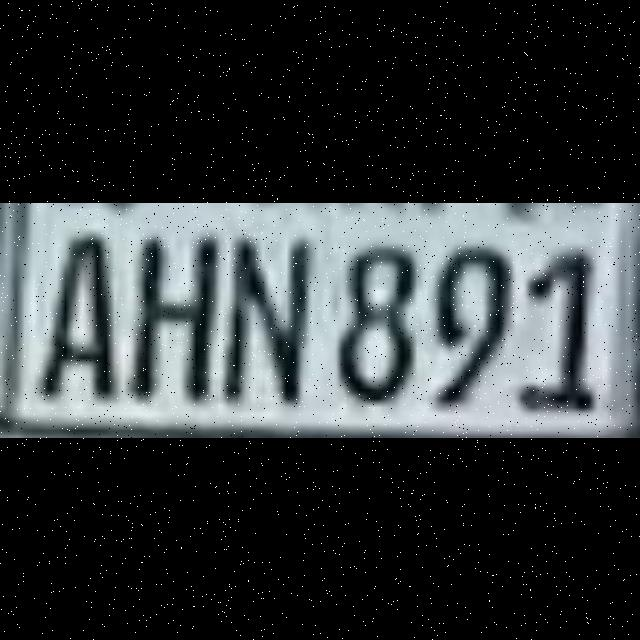1: (524, 222, 620, 420)
8: (329, 222, 425, 420)
9: (426, 222, 522, 420)
A: (38, 222, 134, 420)
H: (135, 222, 231, 420)
N: (233, 222, 329, 420)
